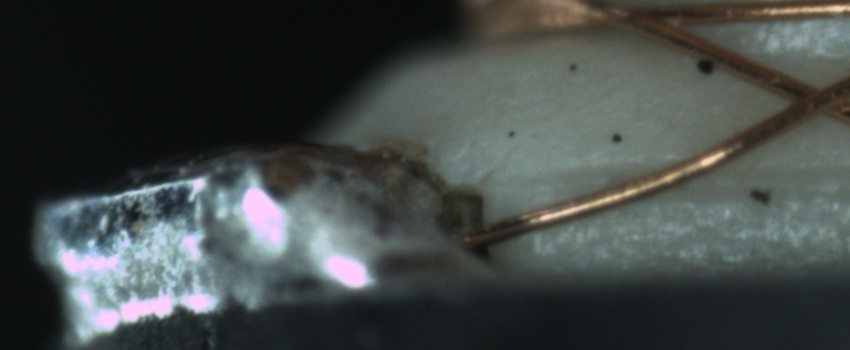CL: (767, 66, 846, 128)
DL: (529, 145, 850, 210)
